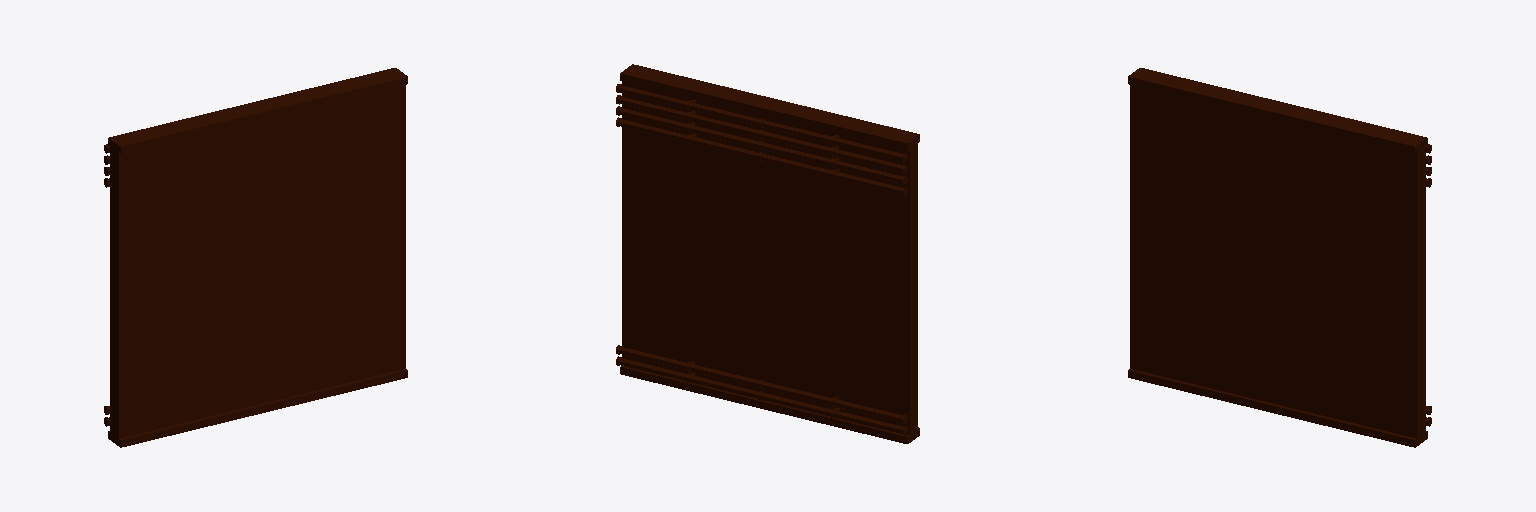
The model's file is 8x8_wall_pipe.obj.
3 views of the same model, side by side, from view 1: azimuth 30°, elevation 25°; view 2: azimuth 150°, elevation 25°; view 3: azimuth 330°, elevation 25° (orthographic).
Visible parts, largest first — view 1: wall; view 2: wall, pipe; view 3: wall.
Boxes of the visible parts, box(x1,y1,x2,y2) form: wall: box(108, 68, 407, 447); wall: box(620, 64, 919, 443); pipe: box(616, 84, 907, 435); wall: box(1128, 68, 1427, 447).
Bounding box in the file's own units: 8 × 8 × 0.8263.